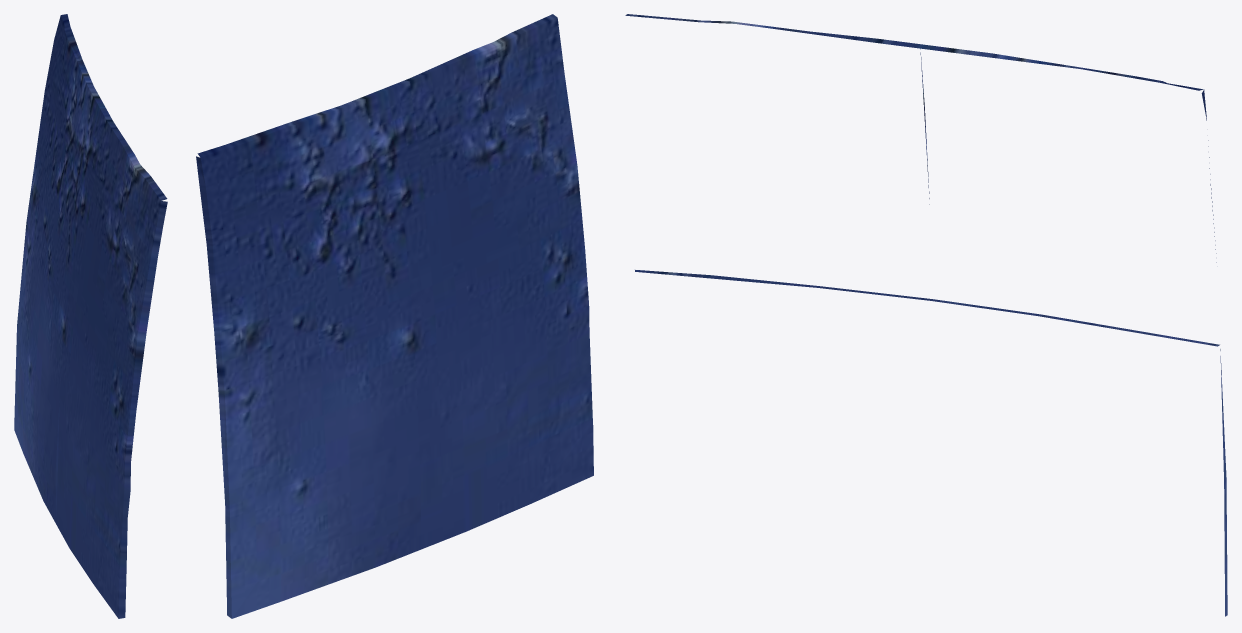
3 renders of one model, left to right at view 1: azimuth 30°, elevation 25°; view 2: azimuth 150°, elevation 25°; view 3: azimuth 270°, elevation 25°, orthographic. The views are drawn at different scales.
Size of the model in its own units: 499998 by 1252826 by 1236803.
1 material, 1 textured.
